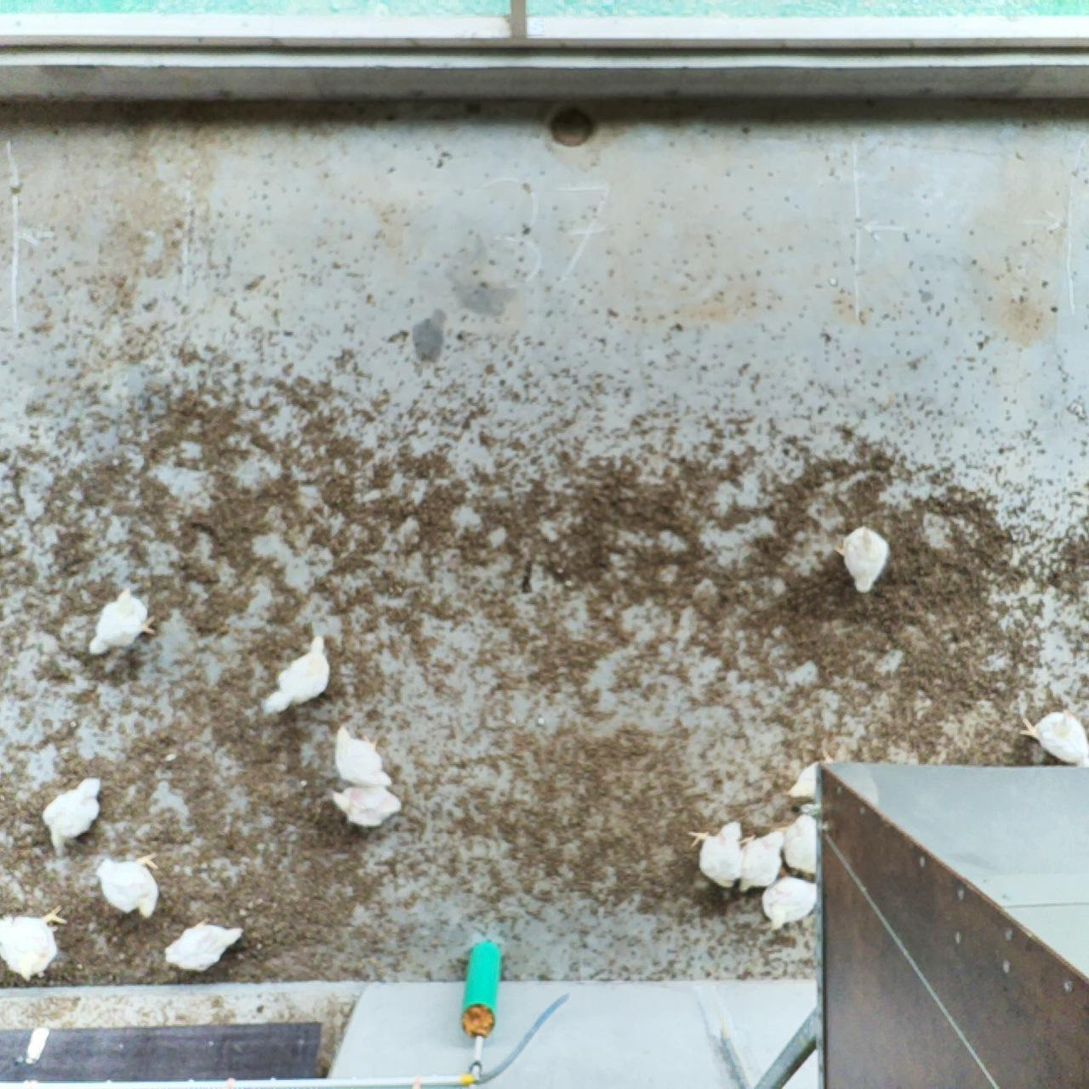chicken: (261, 630, 335, 719), (162, 914, 248, 983), (0, 903, 73, 982), (40, 773, 105, 860), (86, 583, 158, 660), (93, 851, 165, 925), (686, 816, 748, 895), (330, 719, 400, 788), (1018, 704, 1089, 768), (832, 521, 892, 594), (325, 777, 403, 831), (760, 872, 820, 934), (784, 746, 839, 807), (737, 826, 786, 894), (780, 812, 820, 881)
